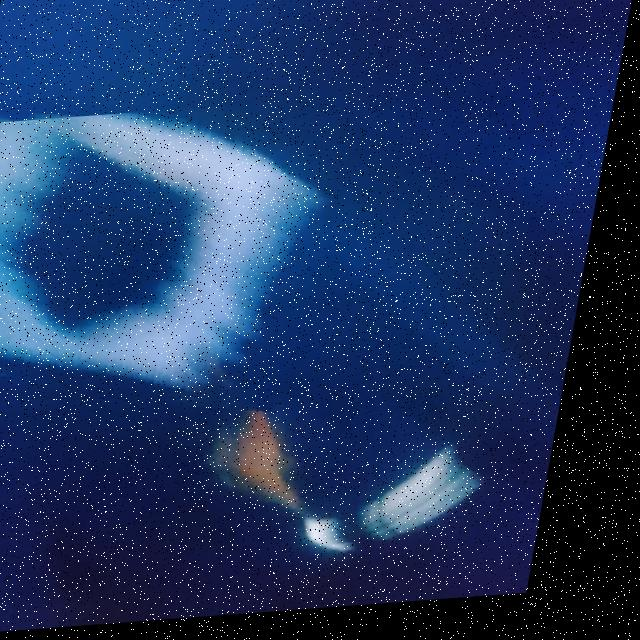thermocoal: (0, 102, 363, 425)
